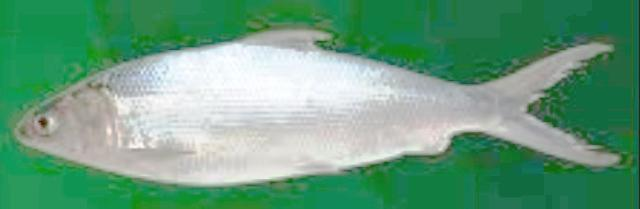Healthy Fish: (15, 30, 617, 183)
